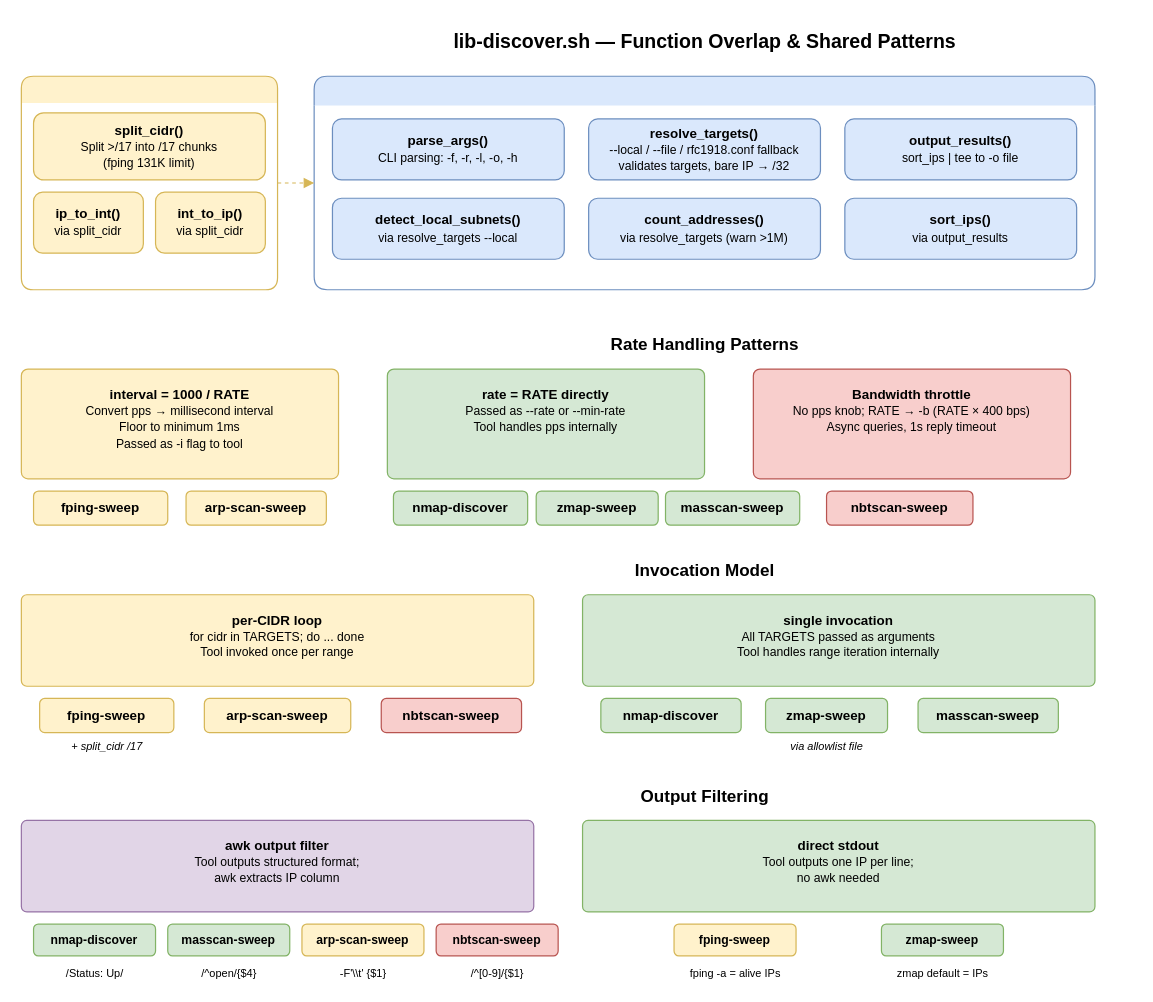
The diagram is 1153 pixels wide and 1002 high, and some of its shapes have lost their labels. The box of each missing label's shape, as (x1, y1, x2, y2) in pixels:
fping-sweep ONLY: (20, 75, 278, 290)
SHARED BY ALL 6 TOOLS: (313, 75, 1095, 290)
